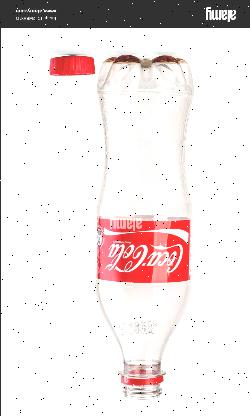Plastic Bottle: (93, 54, 192, 400)
